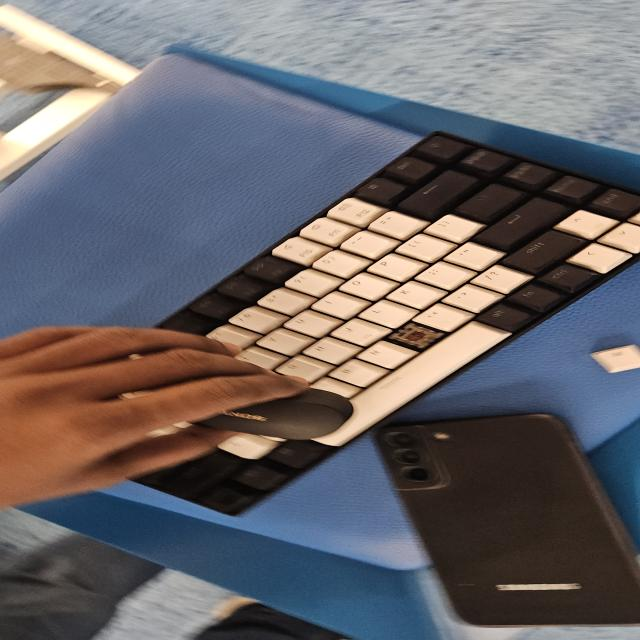C: (402, 327, 439, 346), (396, 327, 436, 344)
